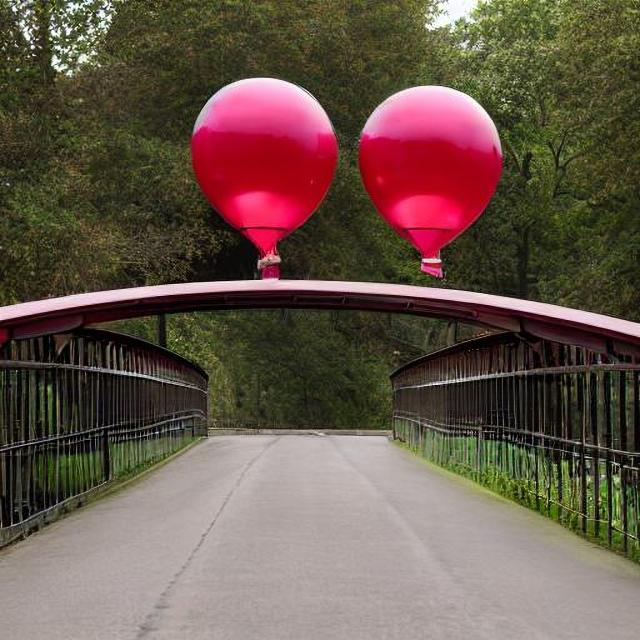balloon: (174, 70, 493, 285), (182, 74, 338, 278), (350, 82, 503, 277)
